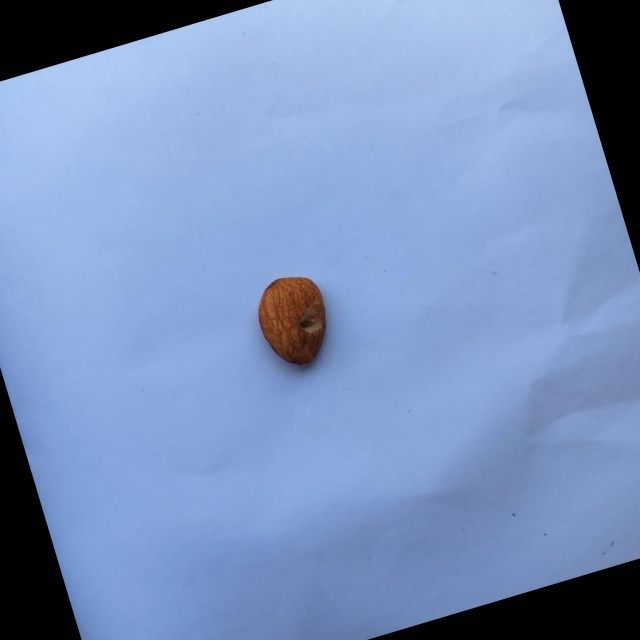grade3: (246, 263, 346, 379)
